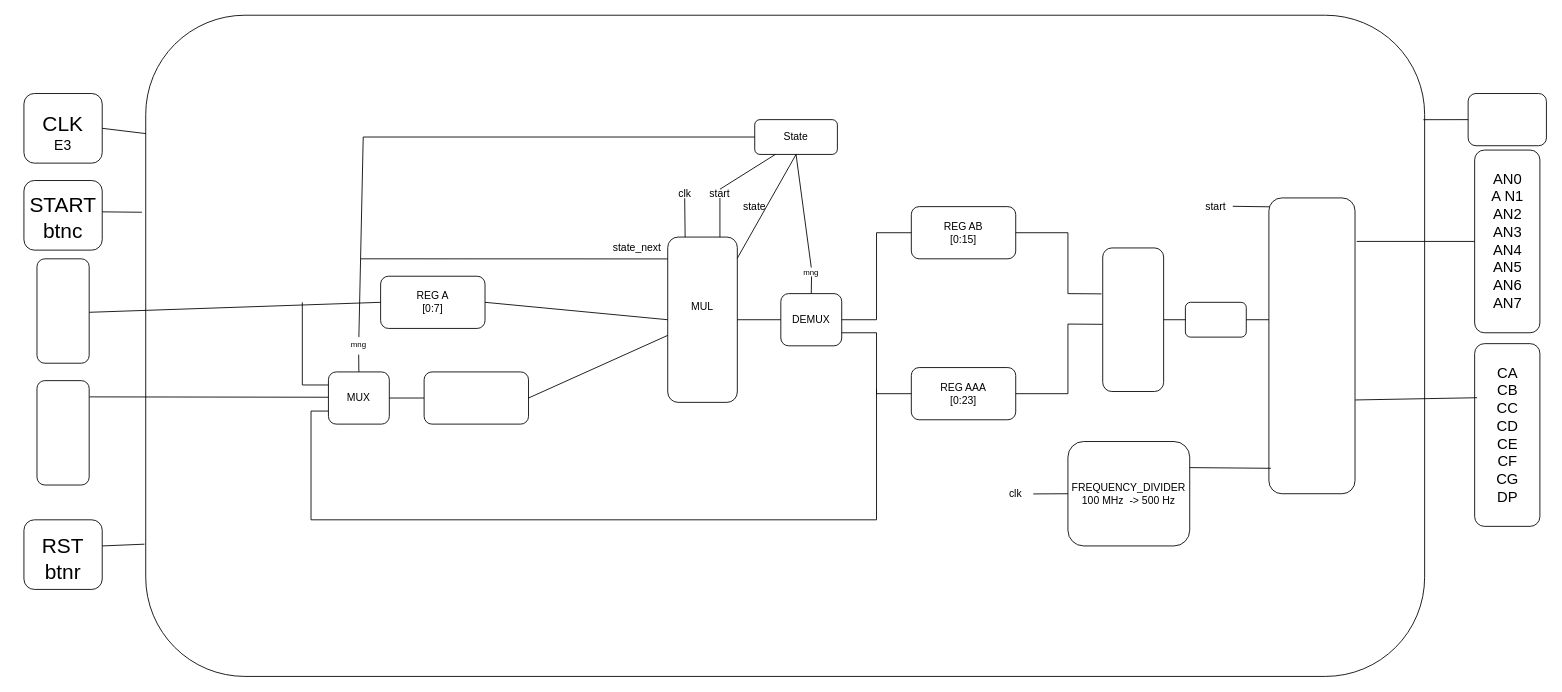
This 1562x692 diagram has some shape labels left out. Here are the shapes that lost their labels. From the top down, the box of each, then its label:
(1467, 93, 1546, 146): BUSY LD0
(36, 258, 89, 363): sw0 sw1 sw2 sw3 sw4 sw5 sw6 sw7
(1102, 247, 1164, 392): ADDER
(1185, 301, 1246, 337): Y [0; 23]
(1268, 197, 1355, 494): res_to_seg7
(423, 371, 529, 424): REG B [0:15]
(36, 380, 89, 485): sw8 sw9 sw10 sw11 sw12 sw13 sw14 sw15
